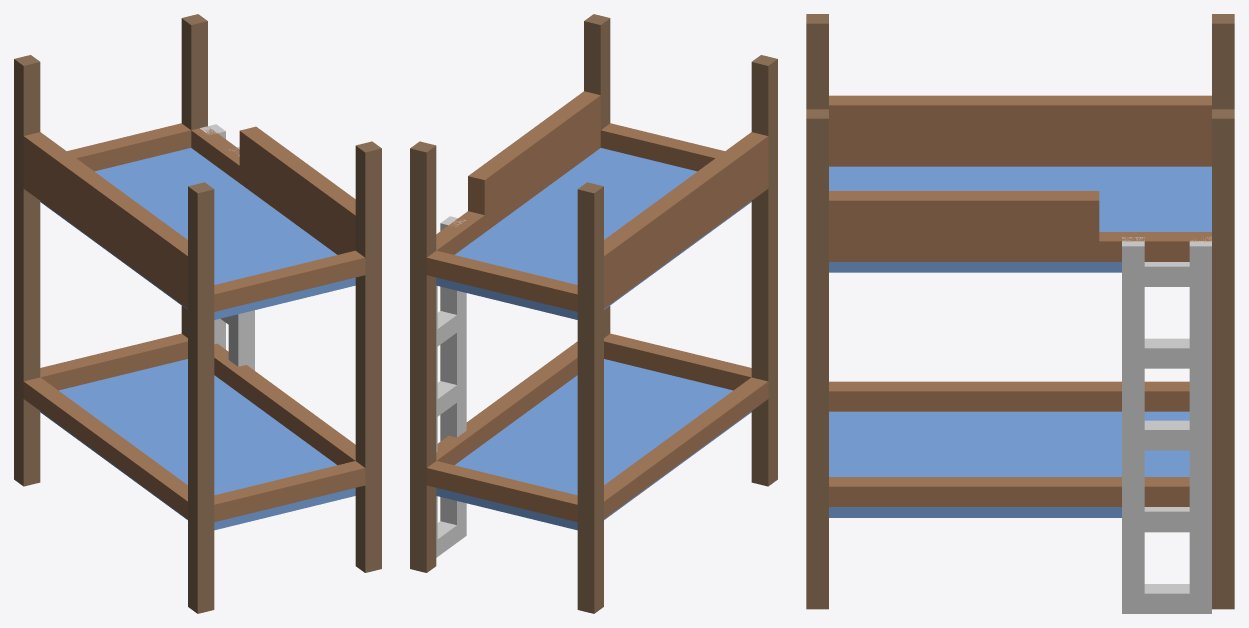
The model's file is bunk-bed.fbx.
3 views of the same model, side by side, from view 1: azimuth 30°, elevation 25°; view 2: azimuth 150°, elevation 25°; view 3: azimuth 270°, elevation 25° (orthographic). The views are drawn at different scales.
Visible parts, largest first — view 1: Bunk_Bed_Detailed; view 2: Bunk_Bed_Detailed; view 3: Bunk_Bed_Detailed.
Part boxes in pixels (<box>): Bunk_Bed_Detailed: <box>14,14,381,613</box>; Bunk_Bed_Detailed: <box>410,14,777,613</box>; Bunk_Bed_Detailed: <box>806,14,1234,613</box>.
Bounding box in the file's own units: 173 × 360 × 285.
